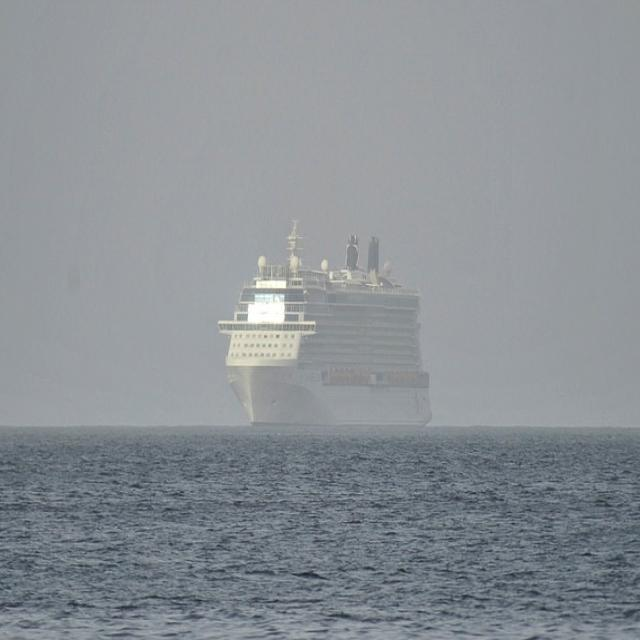passenger ship: (219, 212, 437, 431)
